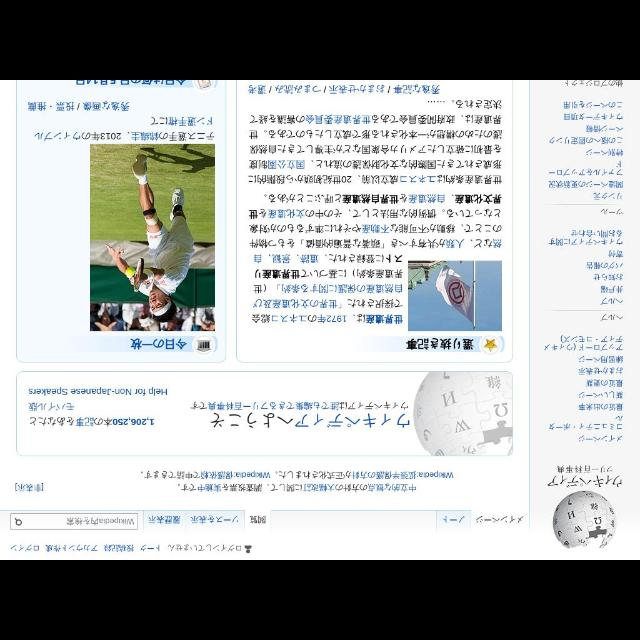icon: (13, 517, 23, 527), (244, 544, 253, 554)
image: (90, 143, 214, 331), (412, 370, 512, 456), (409, 262, 501, 331), (552, 489, 618, 548), (193, 334, 214, 356), (484, 340, 496, 350)
input: (11, 513, 138, 529)
text: (248, 99, 502, 249), (251, 252, 404, 330), (138, 469, 454, 493), (34, 116, 214, 142), (207, 410, 411, 432), (190, 397, 408, 411), (548, 462, 622, 490), (544, 334, 622, 354), (548, 414, 624, 432), (546, 160, 624, 177), (548, 228, 624, 245), (28, 416, 156, 426), (27, 386, 170, 394), (548, 133, 624, 145), (166, 541, 240, 553), (128, 336, 188, 350), (328, 81, 386, 95), (546, 180, 622, 190), (394, 82, 441, 96), (190, 512, 242, 524), (562, 101, 624, 111), (474, 512, 522, 524), (66, 518, 136, 526), (83, 100, 129, 112), (45, 542, 99, 552), (576, 401, 624, 412), (577, 388, 623, 399), (274, 84, 320, 95), (563, 114, 625, 122), (576, 353, 624, 363), (28, 401, 76, 411), (147, 514, 183, 526), (584, 260, 624, 270), (586, 377, 624, 387), (561, 81, 623, 87), (576, 434, 622, 442), (7, 542, 41, 552), (592, 191, 624, 201), (584, 148, 624, 156), (14, 481, 46, 491), (104, 542, 134, 552), (576, 368, 624, 374), (246, 82, 266, 96), (585, 125, 623, 132), (442, 514, 468, 524), (248, 512, 266, 526), (600, 284, 624, 294), (592, 272, 622, 280), (140, 543, 162, 553), (27, 101, 48, 111), (598, 208, 624, 216), (599, 298, 623, 306), (608, 247, 624, 259), (56, 102, 74, 112), (600, 314, 622, 322)
